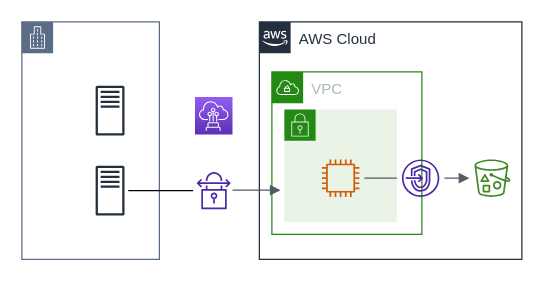
The diagram is 544 pixels wide and 281 high, and some of its shapes have lost their labels. Here are the shapes that lost their labels. From the top down, the box of each, then its label:
(21, 21, 159, 259): On-Premise
(283, 108, 397, 222): Subnet A
